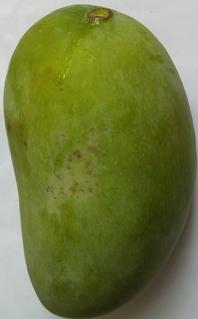Unripe: (1, 1, 198, 319)
